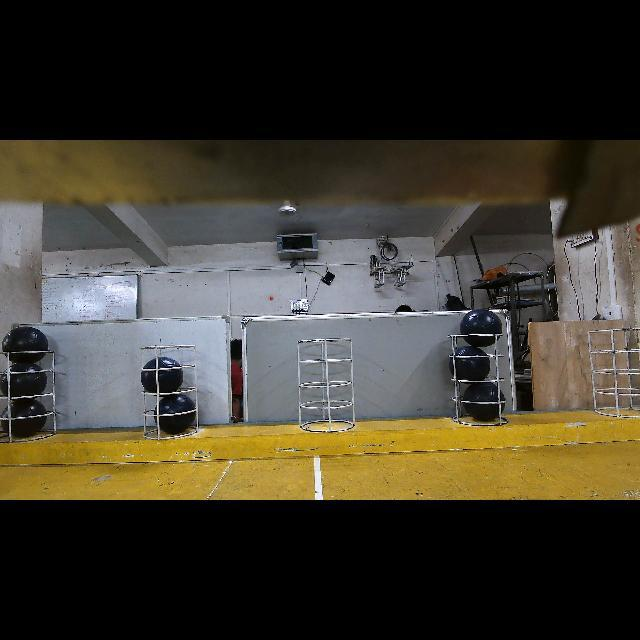P: (0, 399, 41, 439), (2, 326, 42, 365), (458, 383, 498, 421), (0, 360, 40, 397), (443, 346, 484, 380), (463, 312, 500, 349), (158, 395, 196, 431), (144, 356, 181, 392)
S: (136, 344, 202, 442), (446, 332, 509, 430), (295, 339, 355, 433), (0, 348, 58, 444), (586, 328, 640, 422)
